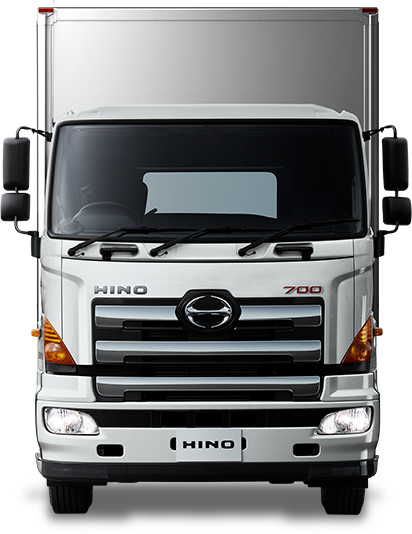truck: (1, 6, 412, 517)
